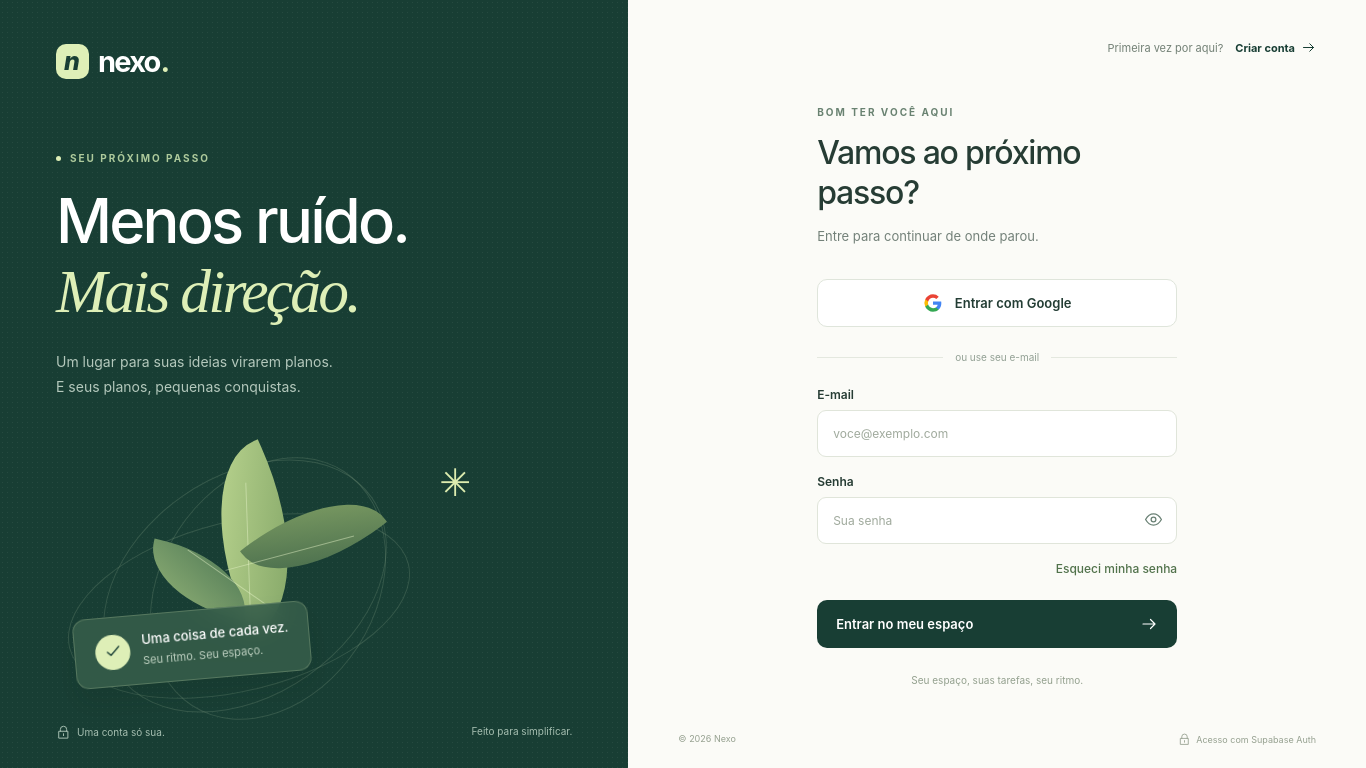
Scenario: interfaces de autenticação › mostra credenciais inválidas sem abrir a área interna
Step 1. Type "aluno@example.com" into the field labelled "E-mail" → (997,433), box [817,410,1177,457]
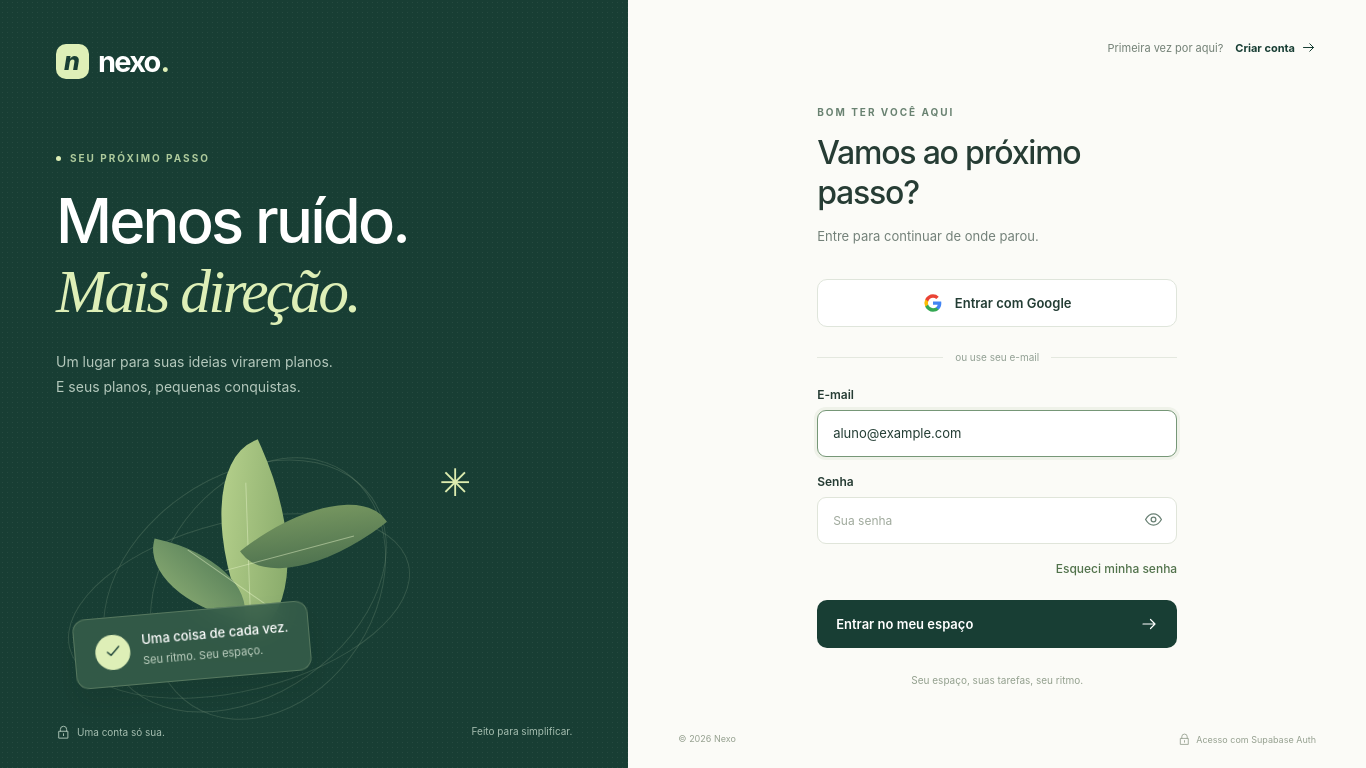
Step 2. Type "errada123" into the password field labelled "Senha" → (997,520), box [817,497,1177,544]
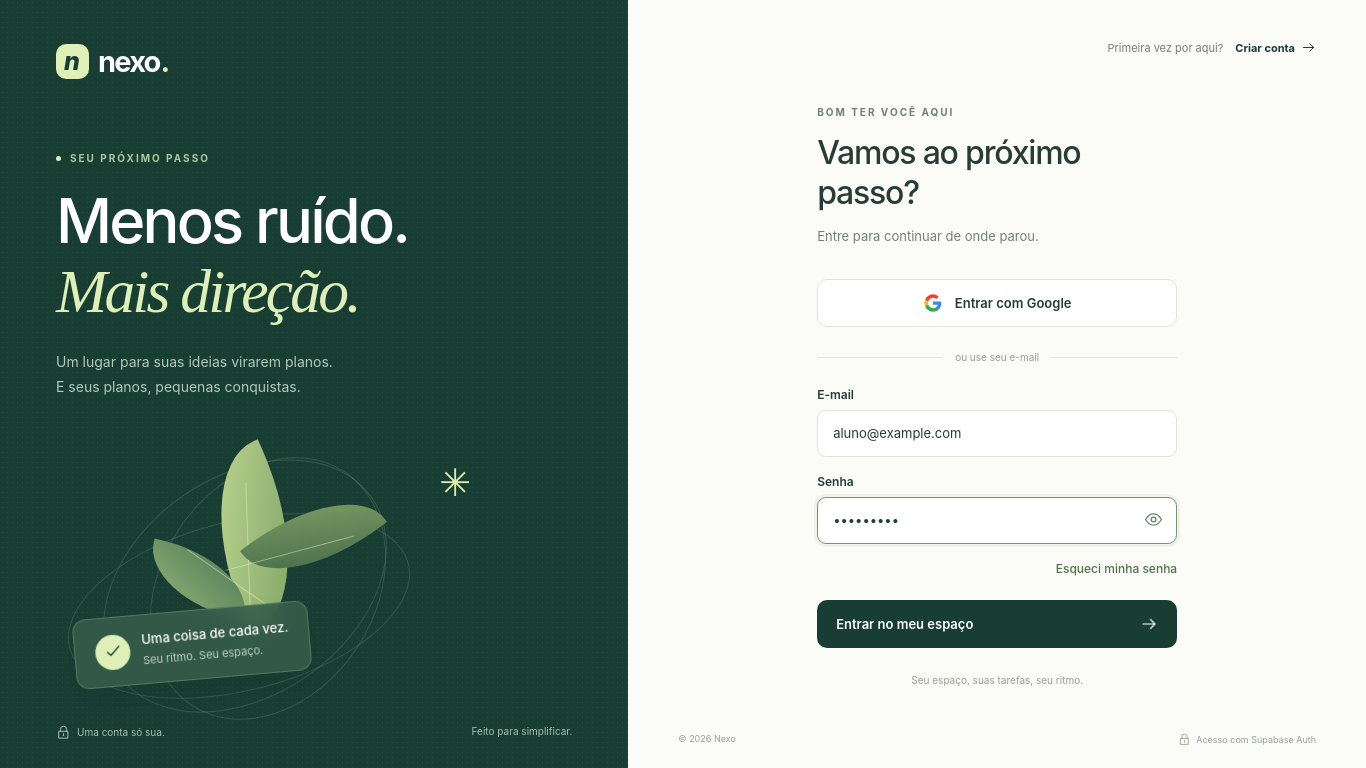
Step 3. Click the button "Entrar no meu espaço" → (905,624), box [817,600,1177,648]
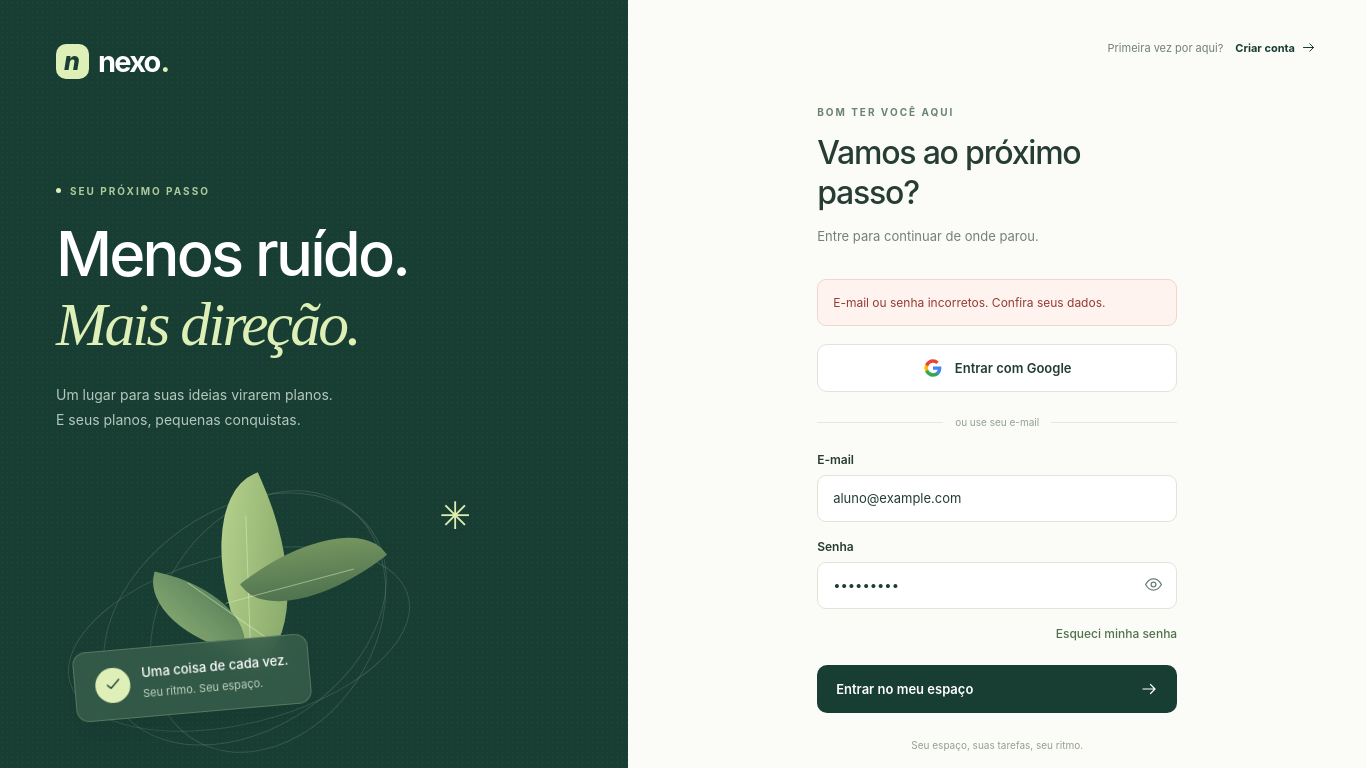
Expected: the message shows "E-mail ou senha incorretos", [833,295,1106,310]
